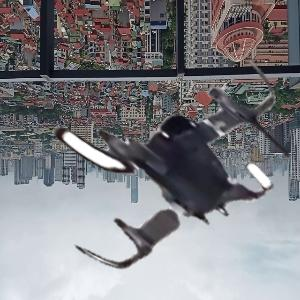drone: (26, 13, 299, 286)
